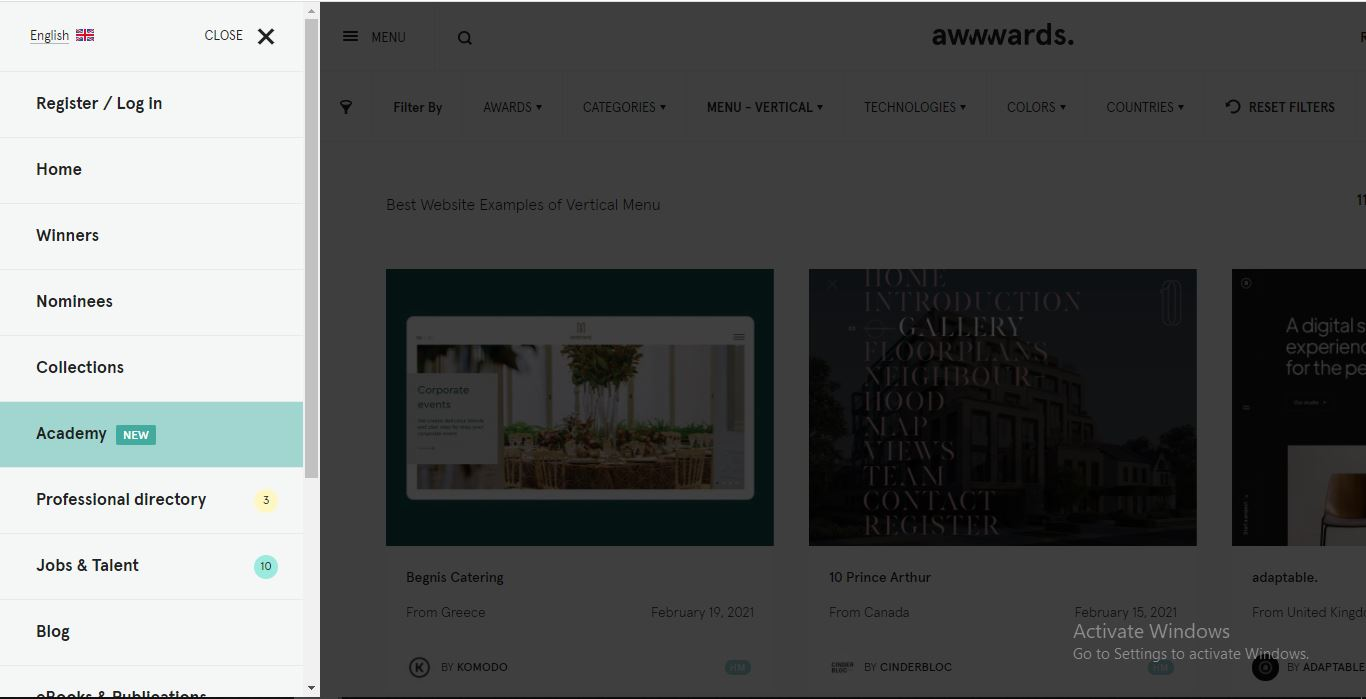Side Bar: (2, 3, 300, 699)
